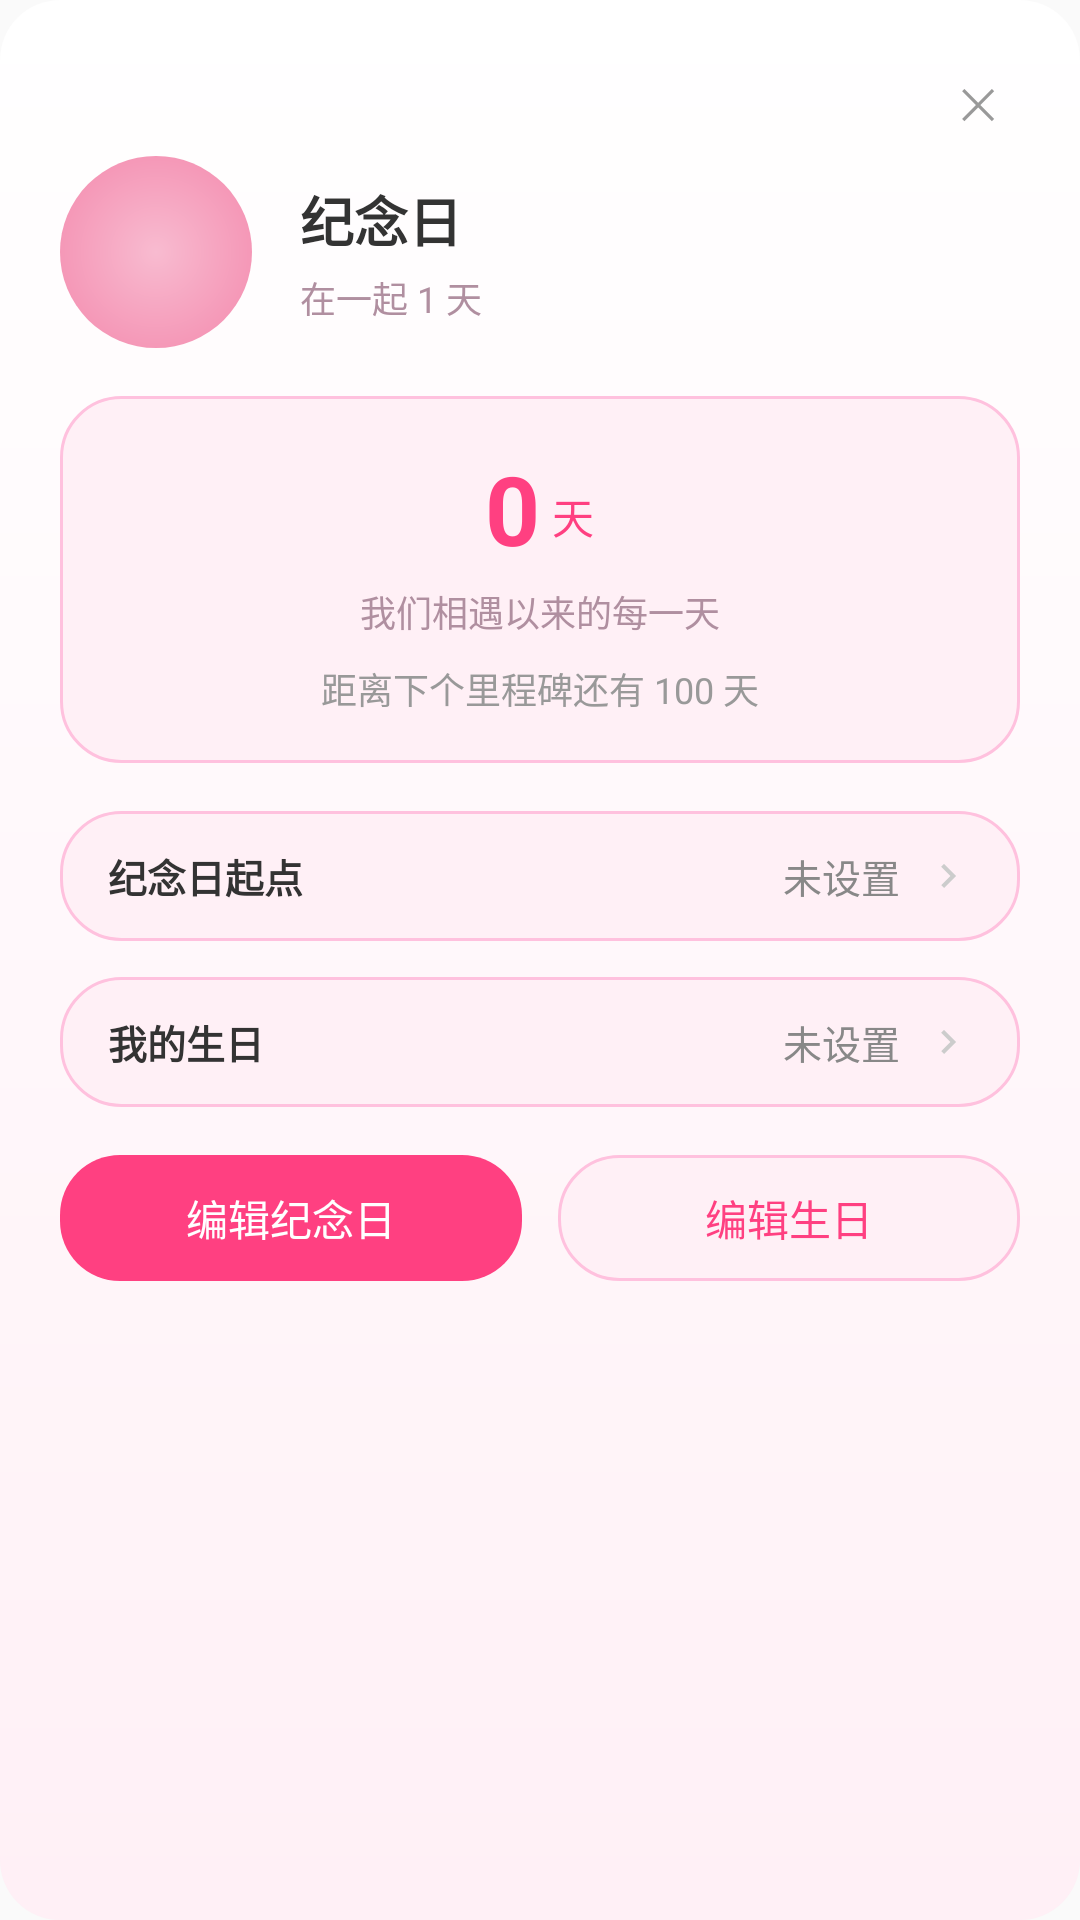

Point at icon controls on the screen. Image size 1080px×1920px, points as (x=x, y=y).
chevron right: (x=948, y=876), (x=948, y=1042)
